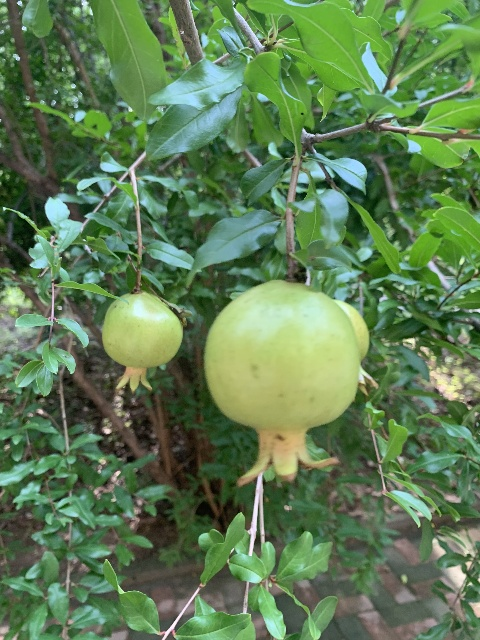mid-growth: (203, 279, 359, 486), (100, 291, 183, 394), (333, 299, 378, 402)
